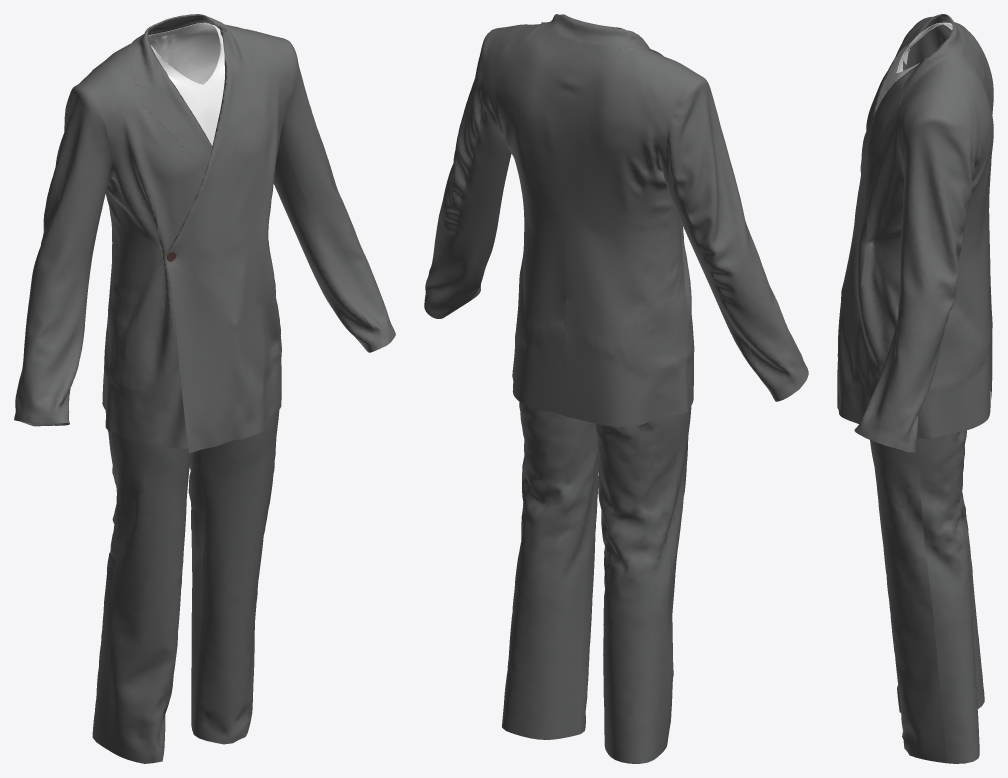
File: asset.gltf
3 views of the same model, side by side, from view 1: azimuth 30°, elevation 25°; view 2: azimuth 150°, elevation 25°; view 3: azimuth 270°, elevation 25° (orthographic). The views are drawn at different scales.
Visible parts, largest first — view 1: P0005, P0004, a_2, a_3, P0036, P0037, P0006, P0035, Cloth, P0021, PARTS27, PARTS28 (+1 smaller); view 2: P0009, PARTS28, PARTS27, P0010, P0036, P0006, P0035, P0037, a_2, P0034, P0021, a_3 (+1 smaller); view 3: P0037, P0005, a_3, PARTS28, P0010, P0007, P0021, PARTS27, P0009, P0036, P0004, Cloth.
Part boxes in pixels (x1,y1,x2,y2): P0005: (165, 27, 292, 453); P0004: (82, 52, 212, 448); a_2: (107, 432, 191, 763); a_3: (194, 410, 279, 744); P0036: (14, 85, 111, 426); P0037: (280, 38, 395, 346); P0006: (102, 178, 135, 436); P0035: (273, 136, 384, 352); Cloth: (149, 24, 225, 145); P0021: (128, 14, 252, 89); PARTS27: (92, 430, 121, 748); PARTS28: (188, 450, 203, 734); P0009: (563, 42, 691, 426); PARTS28: (502, 402, 598, 739); PARTS27: (595, 414, 681, 763); P0010: (481, 24, 580, 414); P0036: (667, 76, 808, 401); P0006: (635, 153, 692, 425); P0035: (443, 102, 511, 317); P0037: (424, 28, 498, 318); a_2: (661, 406, 691, 753); P0034: (662, 146, 761, 380); P0021: (541, 14, 662, 55); a_3: (581, 453, 598, 733); P0037: (854, 112, 974, 453); P0005: (837, 67, 943, 423); a_3: (870, 438, 946, 763); PARTS28: (920, 430, 979, 763); P0010: (938, 44, 993, 429); P0007: (895, 213, 969, 438); P0021: (903, 14, 964, 92); PARTS27: (961, 491, 984, 708); P0009: (954, 22, 993, 398); P0036: (902, 16, 951, 70); P0004: (866, 17, 932, 130); Cloth: (876, 22, 952, 109).
Size of the model in its own units: 0.849 by 1.56 by 0.3143.
Materials: 6 (6 with a texture image).
